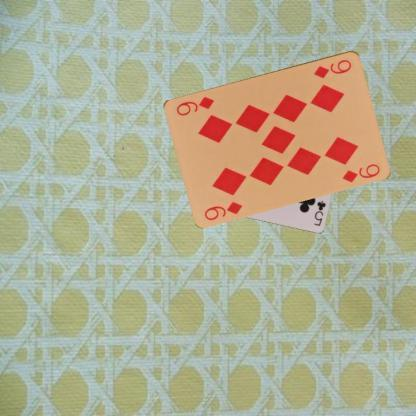5c: (311, 198, 327, 228)
9d: (311, 57, 353, 80), (202, 198, 244, 221)
